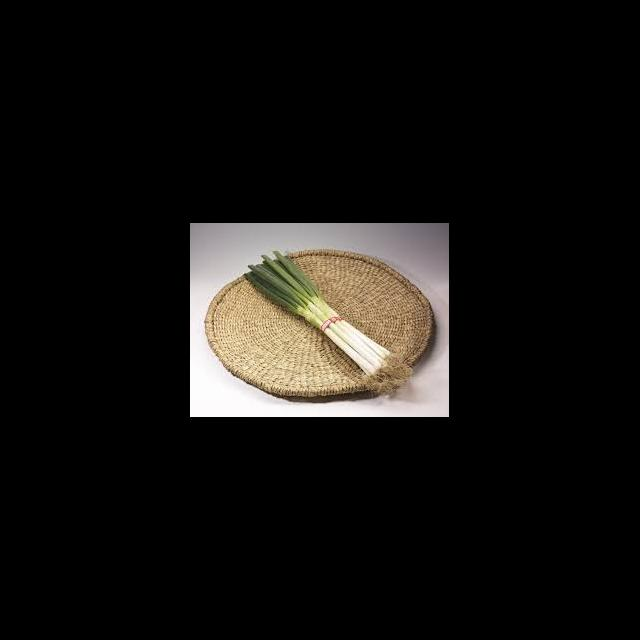green_onion: (248, 251, 392, 376)
